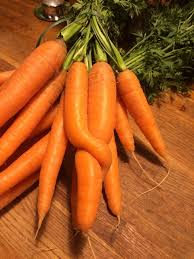carrot: (81, 59, 116, 254), (115, 63, 177, 170), (62, 59, 116, 176), (1, 33, 66, 121)
